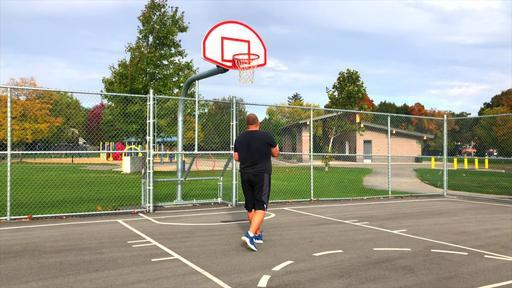human: (233, 112, 280, 252)
rim: (232, 52, 260, 82)
